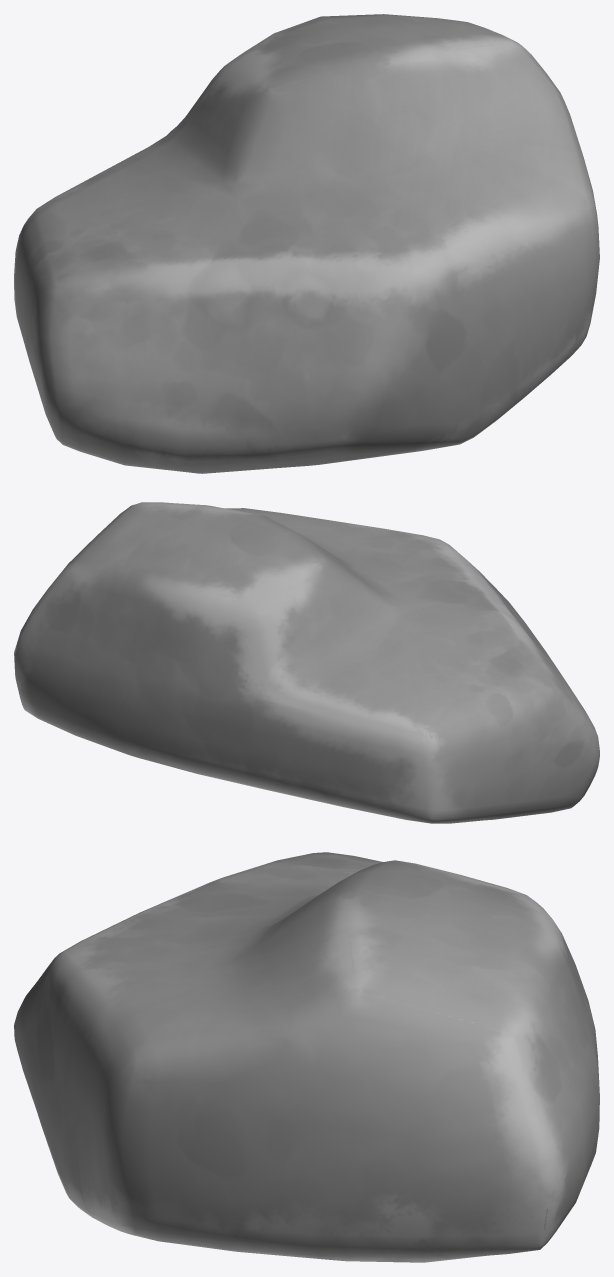
Rendered from Stone_3.FBX.
3 renders of one model, top to bottom at view 1: azimuth 30°, elevation 25°; view 2: azimuth 150°, elevation 25°; view 3: azimuth 270°, elevation 25°, orthographic. The views are drawn at different scales.
Parts seen in each view (by area): view 1: Rock006; view 2: Rock006; view 3: Rock006.
Part boxes in pixels (bbox=[...]): Rock006: bbox=[14, 14, 599, 473]; Rock006: bbox=[14, 502, 599, 823]; Rock006: bbox=[14, 852, 599, 1262].
Bounding box in the file's own units: 1.35 × 1.05 × 0.6976.
Materials: 1 (1 with a texture image).
